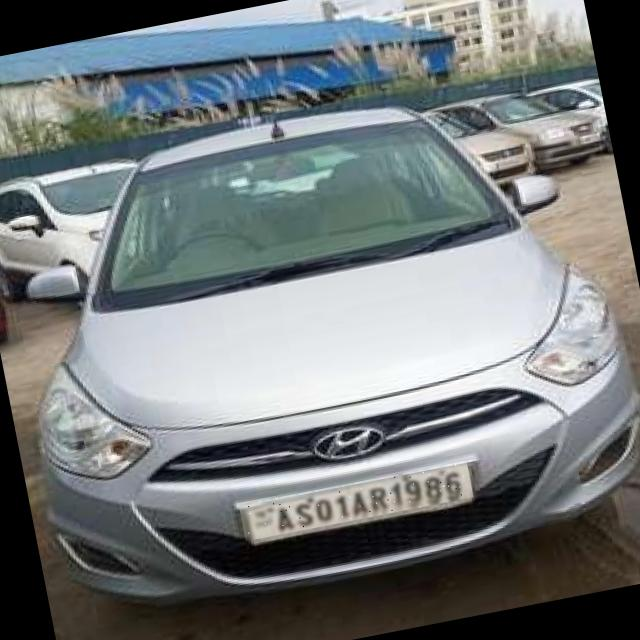Plate: (241, 464, 475, 543)
